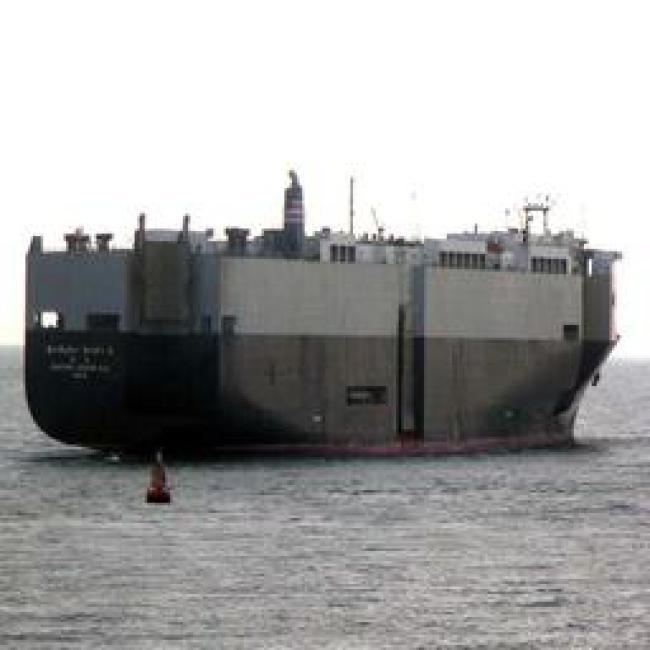Ship: (25, 230, 618, 465)
